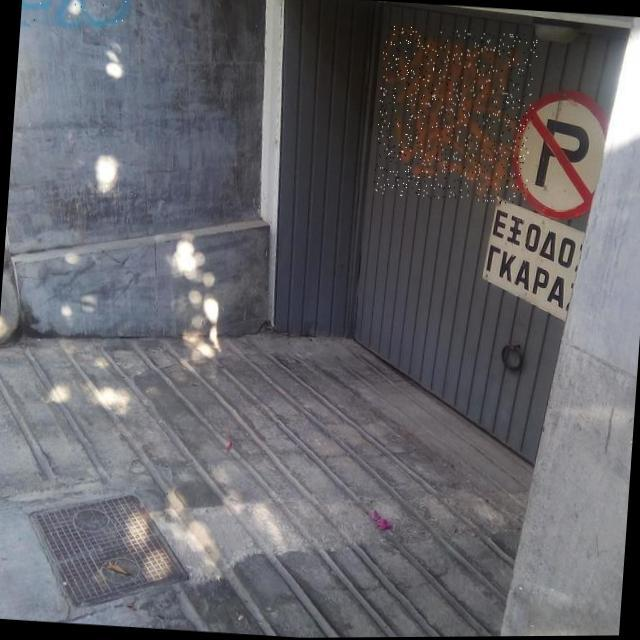-: (373, 25, 538, 206), (20, 0, 131, 33)
